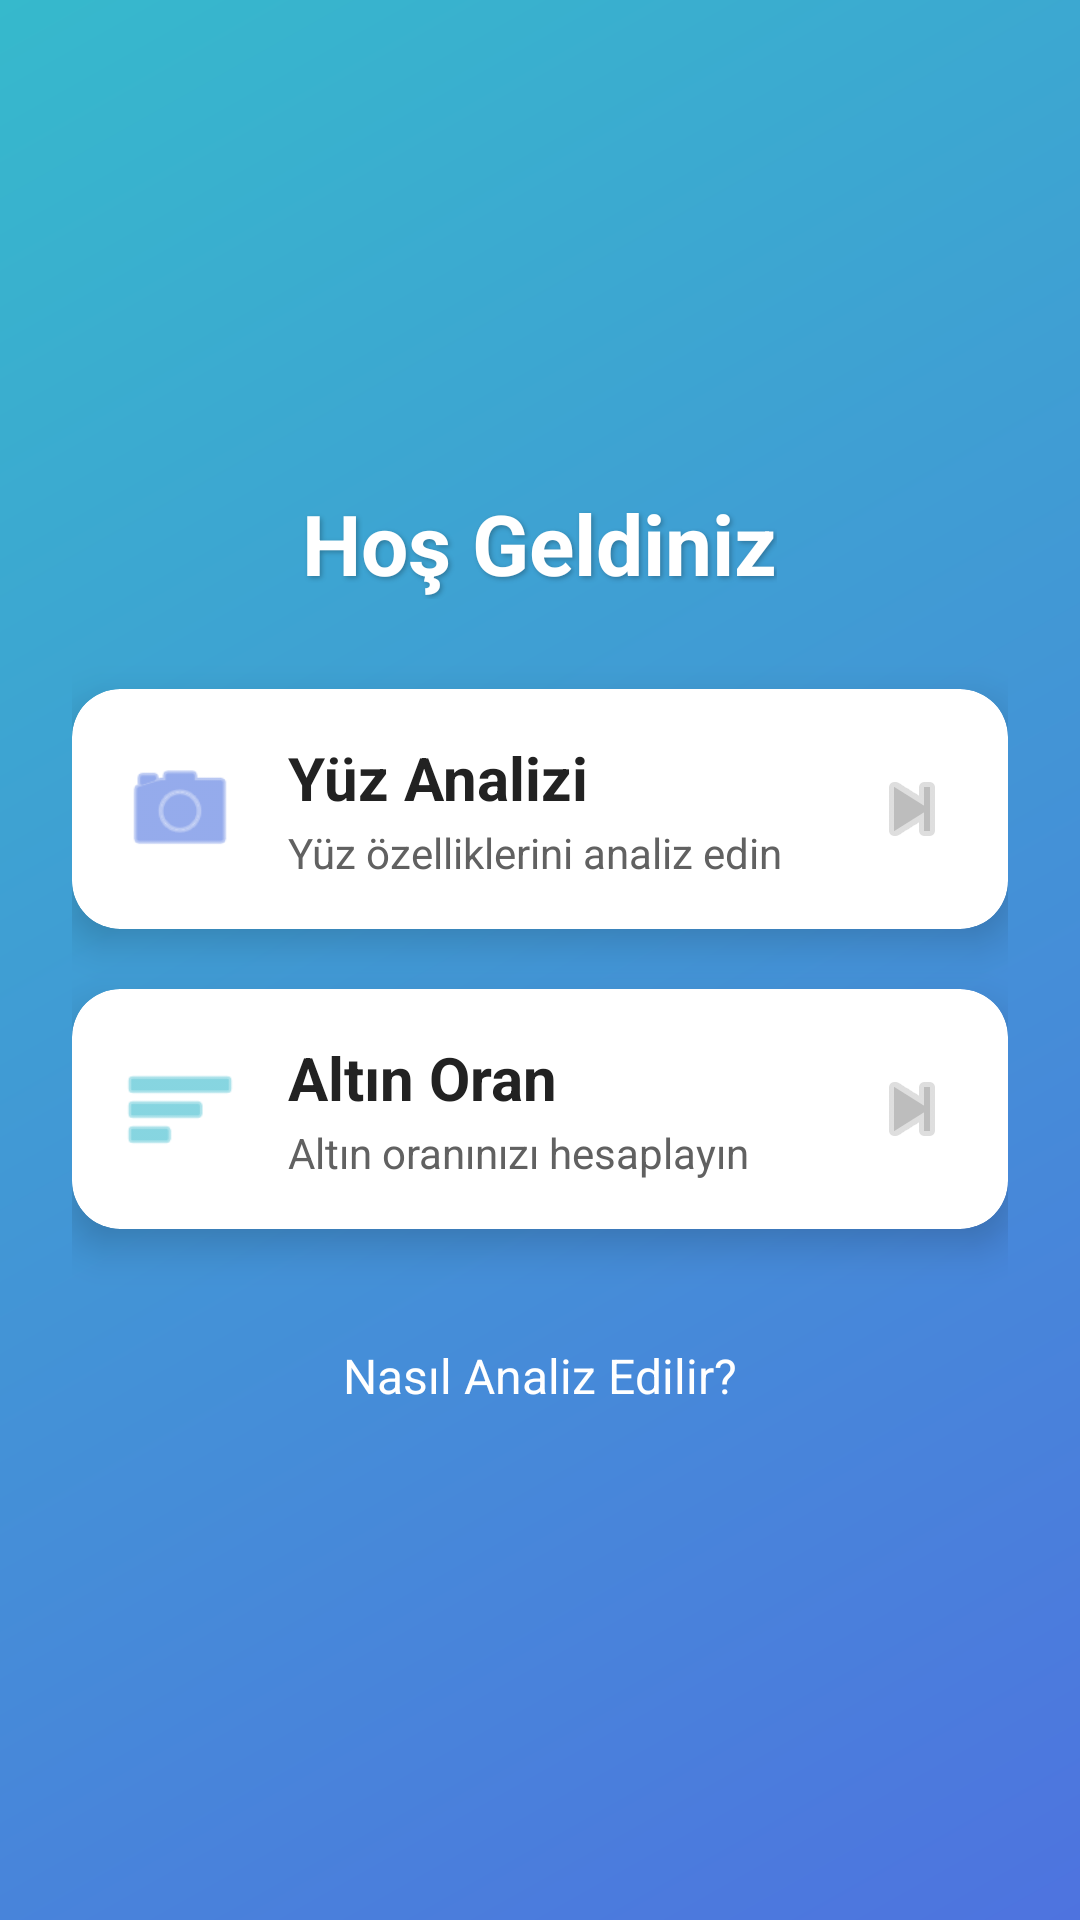

Screen size 1080px x 1920px. Icon name, then its box in pixels as (x1, y1, x2, y2):
camera: (134, 770, 226, 844)
next: (889, 782, 935, 836), (889, 1082, 935, 1136)
sort by size: (128, 1076, 232, 1143)
